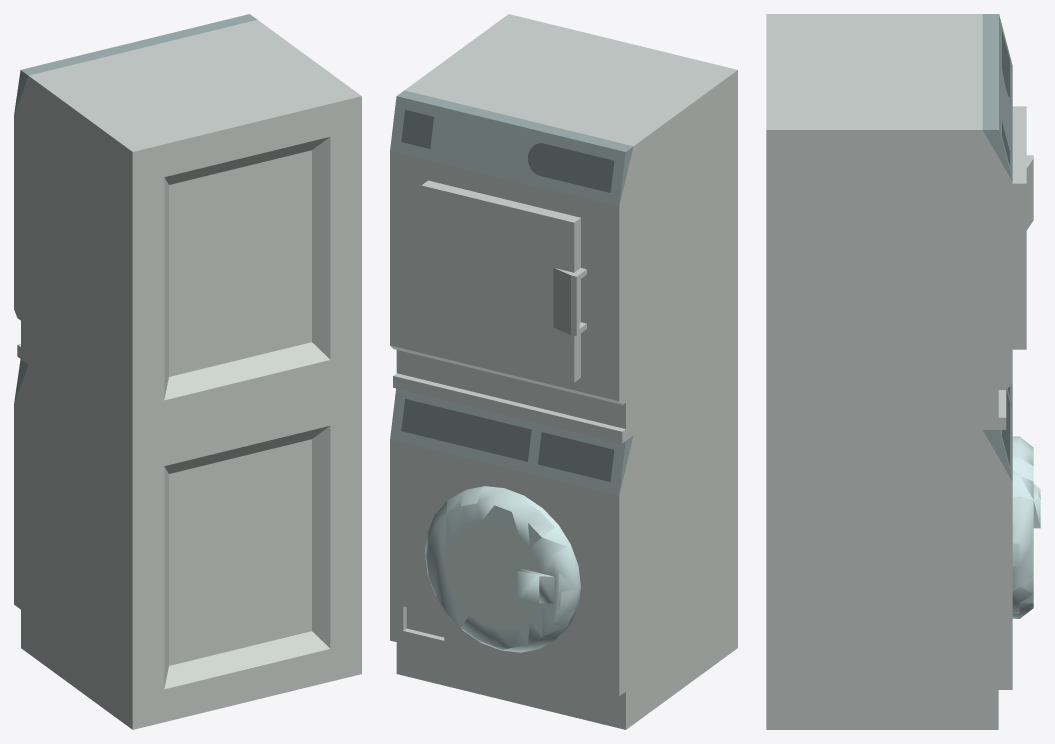
File: washerDryerStacked.glb
3 views of the same model, side by side, from view 1: azimuth 30°, elevation 25°; view 2: azimuth 150°, elevation 25°; view 3: azimuth 270°, elevation 25° (orthographic). The views are drawn at different scales.
Visible parts, largest first — view 1: washerDryerStacked; view 2: washerDryerStacked; view 3: washerDryerStacked.
Boxes of the visible parts, x1=… form: washerDryerStacked: x1=14, y1=14, x2=361, y2=729; washerDryerStacked: x1=390, y1=14, x2=737, y2=729; washerDryerStacked: x1=766, y1=14, x2=1040, y2=729.
Bounding box in the file's own units: 3.9 × 9.4 × 3.9.
